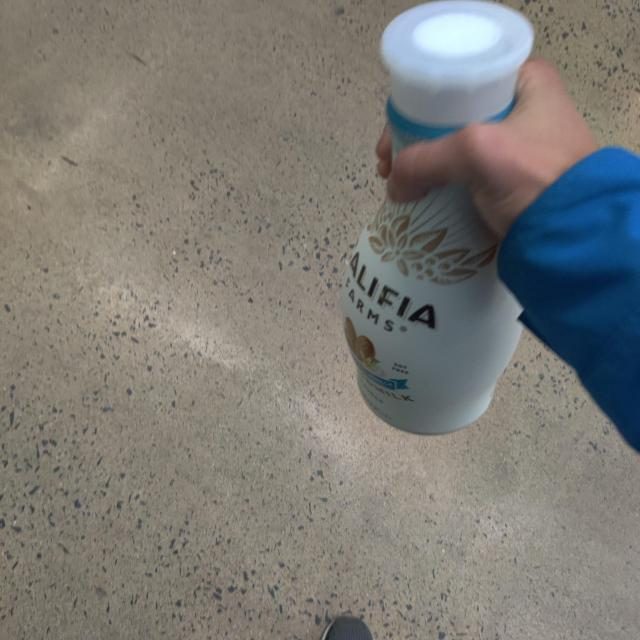Milk: (334, 0, 554, 454)
